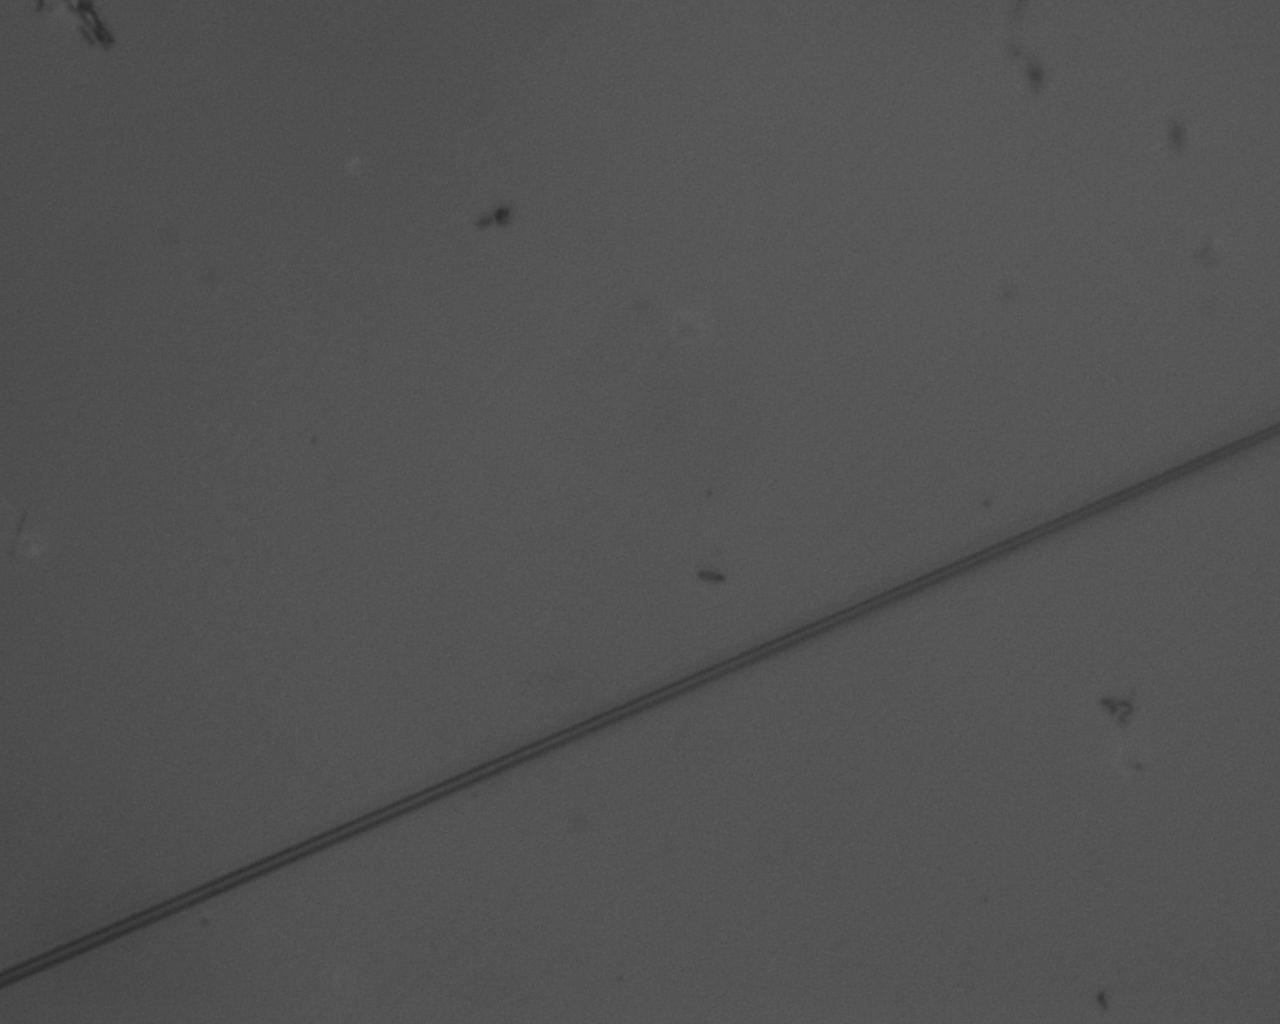fiber: (937, 0, 1167, 532), (1, 0, 122, 532), (1082, 532, 1185, 1024), (389, 532, 409, 1024)
